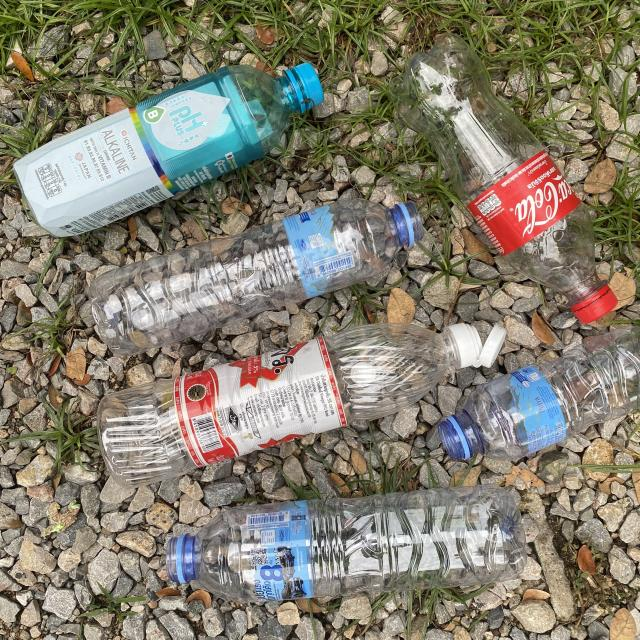plastik: (98, 324, 505, 488), (391, 35, 616, 322), (14, 62, 324, 236), (89, 199, 424, 356), (166, 486, 525, 602), (438, 326, 640, 460), (550, 330, 640, 426)
